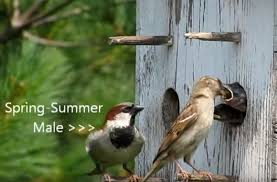hsparrow: (147, 64, 224, 182), (77, 100, 146, 182)
